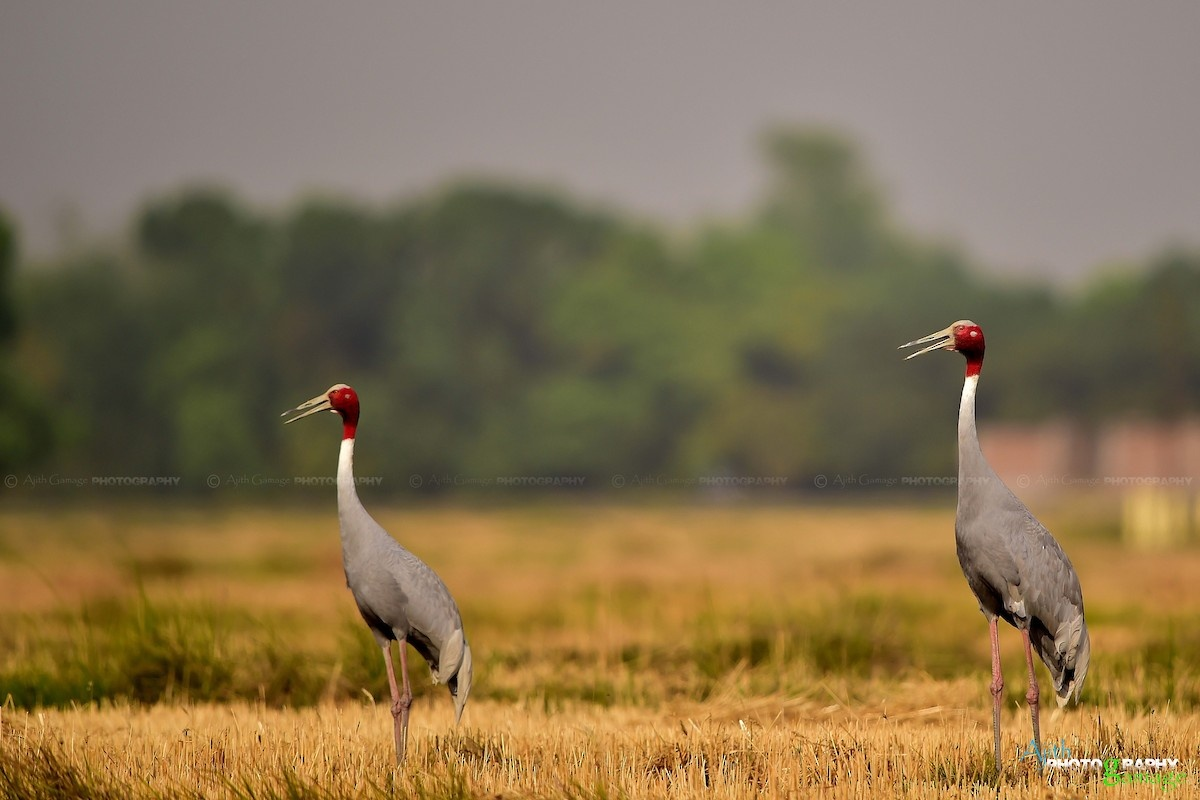crane: (886, 298, 1118, 772), (276, 364, 500, 763)
